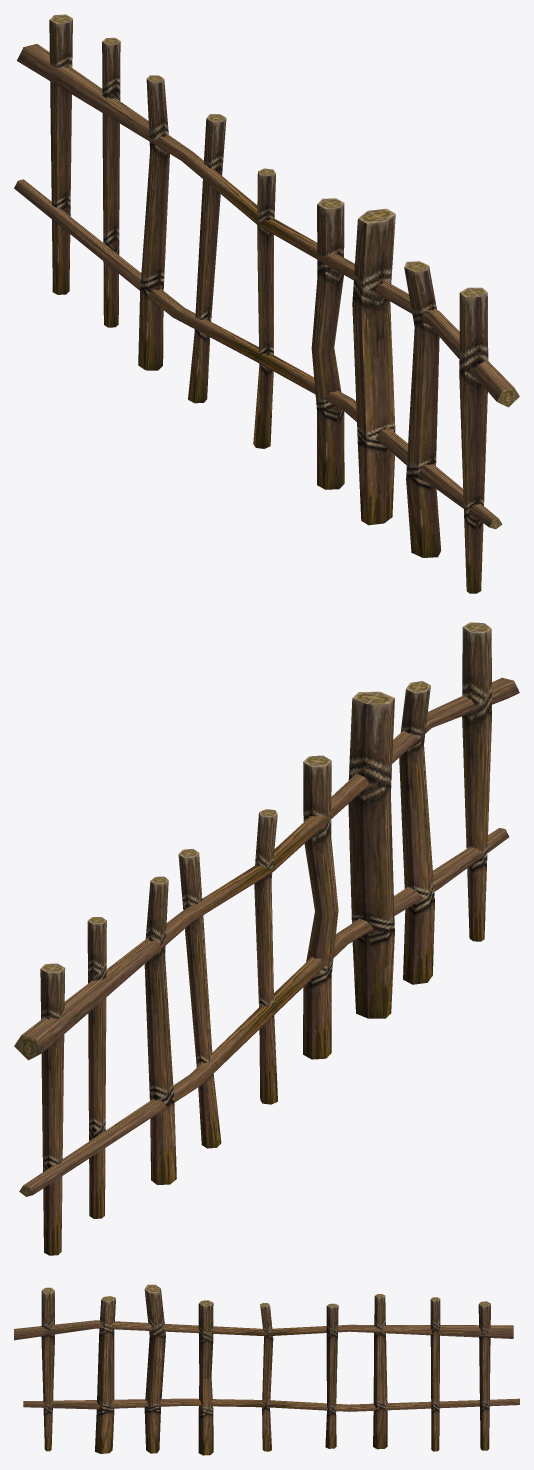
Rendered from Youshuizhou_zhiwu_064.FBX.
3 renders of one model, top to bottom at view 1: azimuth 30°, elevation 25°; view 2: azimuth 150°, elevation 25°; view 3: azimuth 270°, elevation 25°, orthographic. The views are drawn at different scales.
Parts seen in each view (by area): view 1: Cylinder03weilan; view 2: Cylinder03weilan; view 3: Cylinder03weilan.
Boxes of the visible parts, x1,y1,x2,y2 form: Cylinder03weilan: (14,14,519,593); Cylinder03weilan: (14,622,519,1255); Cylinder03weilan: (14,1284,519,1455).
Bounding box in the file's own units: 24.55 × 184 × 517.
